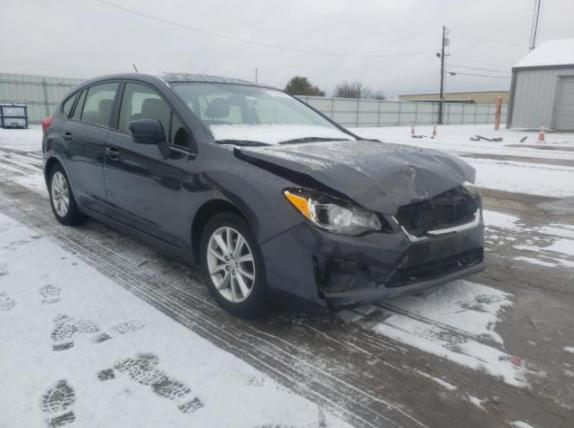Back-door: (57, 79, 122, 215)
Back-wheel: (48, 165, 89, 225)
Back-window: (82, 84, 118, 127), (72, 90, 85, 120), (63, 95, 76, 115)
Fender: (178, 138, 307, 263)
Front-bumper: (260, 194, 484, 310)
Front-door: (103, 80, 195, 248)
Front-wheel: (200, 213, 283, 318)
Front-window: (119, 84, 169, 132), (171, 114, 190, 147)
Headlight: (288, 191, 388, 235)
Hood: (240, 139, 475, 216)
Mirror: (131, 119, 163, 144)
Quarter-panel: (42, 113, 66, 172)
Rocker-panel: (80, 206, 196, 264)
Roof: (124, 71, 270, 87)
Tail-light: (42, 118, 52, 133)
Windshield: (166, 82, 357, 145)
